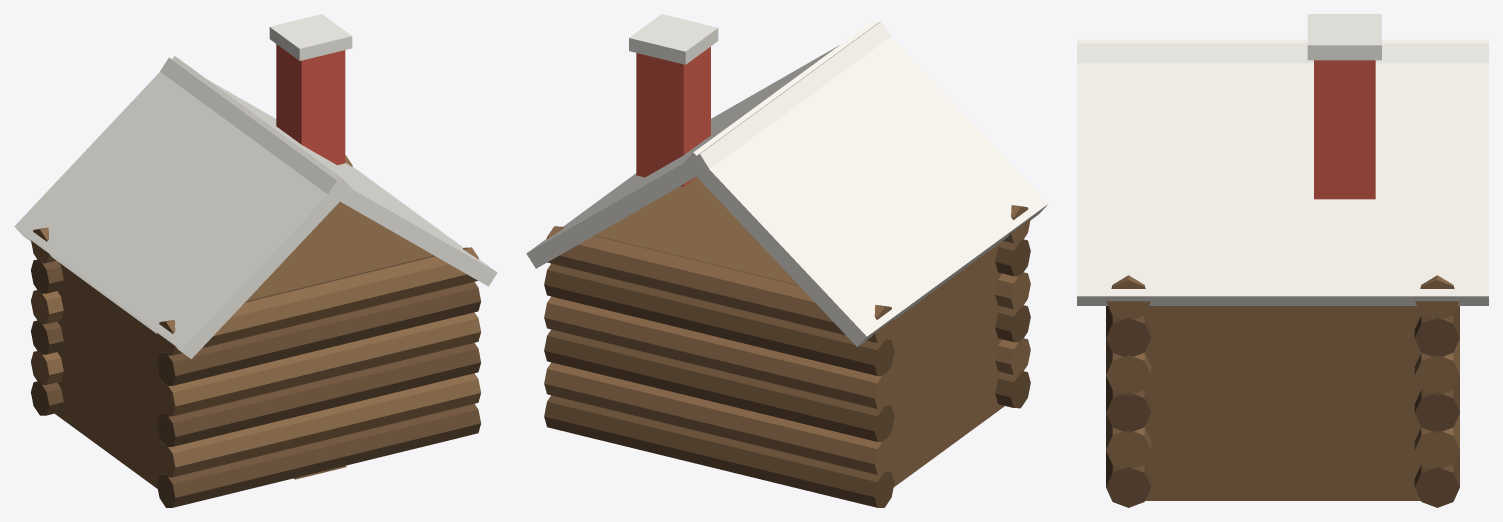
File: m_lodge.gltf
3 views of the same model, side by side, from view 1: azimuth 30°, elevation 25°; view 2: azimuth 150°, elevation 25°; view 3: azimuth 270°, elevation 25° (orthographic). The views are drawn at different scales.
Visible parts, largest first — view 1: m_lodge; view 2: m_lodge; view 3: m_lodge.
Part boxes in pixels (bbox=[...]): m_lodge: bbox=[14, 14, 497, 507]; m_lodge: bbox=[526, 14, 1048, 507]; m_lodge: bbox=[1077, 14, 1488, 507].
Bounding box in the file's own units: 2.16 × 2.34 × 2.
1 material, 1 textured.
